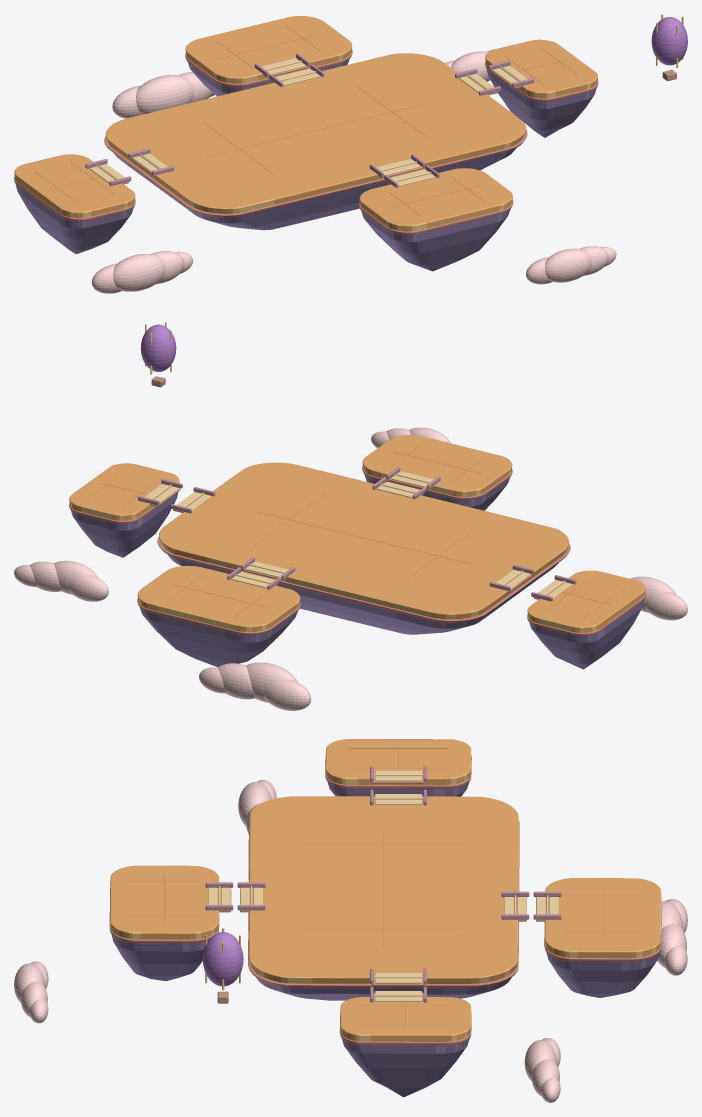
Rendered from open_ringout_art_v3.glb.
3 renders of one model, top to bottom at view 1: azimuth 30°, elevation 25°; view 2: azimuth 150°, elevation 25°; view 3: azimuth 270°, elevation 25°, orthographic. The views are drawn at different scales.
Visible parts, largest first — view 1: P32_MainIsland_DeckShell, P32_OuterIsland_South_DeckShell, P32_OuterIsland_North_DeckShell, P32_OuterIsland_West_DeckShell, P32_OuterIsland_East_DeckShell, P32_OuterIsland_North_ContinuousUnderside, P32_MainIsland_ContinuousUnderside, P32_CloudLayer_West, P32_CloudLayer_South, P32_OuterIsland_West_ContinuousUnderside, P32_OuterIsland_East_ContinuousUnderside, P32_CloudLayer_North (+15 smaller); view 2: P32_MainIsland_DeckShell, P32_OuterIsland_South_DeckShell, P32_OuterIsland_North_DeckShell, P32_OuterIsland_West_DeckShell, P32_OuterIsland_East_DeckShell, P32_OuterIsland_South_ContinuousUnderside, P32_CloudLayer_South, P32_MainIsland_ContinuousUnderside, P32_OuterIsland_West_ContinuousUnderside, P32_CloudLayer_East, P32_OuterIsland_East_ContinuousUnderside, P32_MainIsland_WarmBand (+5 smaller); view 3: P32_MainIsland_DeckShell, P32_OuterIsland_South_DeckShell, P32_OuterIsland_North_DeckShell, P32_OuterIsland_West_DeckShell, P32_OuterIsland_East_DeckShell, P32_OuterIsland_East_ContinuousUnderside, P32_OuterIsland_South_ContinuousUnderside, P32_OuterIsland_North_ContinuousUnderside, P32_MainIsland_ContinuousUnderside, P32_CloudLayer_South, P32_CloudLayer_East, P32_HotAirBalloon_Envelope (+15 smaller).
Boxes of the visible parts, x1,y1,x2,y2 form: P32_MainIsland_DeckShell: (105,53,525,213); P32_OuterIsland_South_DeckShell: (185,16,352,83); P32_OuterIsland_North_DeckShell: (359,168,512,231); P32_OuterIsland_West_DeckShell: (14,154,135,218); P32_OuterIsland_East_DeckShell: (485,39,597,98); P32_OuterIsland_North_ContinuousUnderside: (361,209,510,271); P32_MainIsland_ContinuousUnderside: (114,148,516,230); P32_CloudLayer_West: (91,251,193,293); P32_CloudLayer_South: (112,72,214,118); P32_OuterIsland_West_ContinuousUnderside: (15,184,133,254); P32_OuterIsland_East_ContinuousUnderside: (486,68,596,137); P32_CloudLayer_North: (526,246,616,284); P32_MainIsland_DeckShell: (159,462,568,619); P32_OuterIsland_South_DeckShell: (137,565,300,632); P32_OuterIsland_North_DeckShell: (362,435,512,496); P32_OuterIsland_West_DeckShell: (527,570,645,632); P32_OuterIsland_East_DeckShell: (69,463,179,520); P32_OuterIsland_South_ContinuousUnderside: (140,608,297,667); P32_CloudLayer_South: (199,662,311,710); P32_MainIsland_ContinuousUnderside: (167,554,558,634); P32_OuterIsland_West_ContinuousUnderside: (529,599,644,669); P32_CloudLayer_East: (14,560,108,601); P32_OuterIsland_East_ContinuousUnderside: (71,492,178,557); P32_MainIsland_WarmBand: (157,537,570,622); P32_MainIsland_DeckShell: (249,796,518,983); P32_OuterIsland_South_DeckShell: (544,878,661,958); P32_OuterIsland_North_DeckShell: (110,865,219,939); P32_OuterIsland_West_DeckShell: (325,739,471,785); P32_OuterIsland_East_DeckShell: (340,997,471,1041); P32_OuterIsland_East_ContinuousUnderside: (342,1039,469,1097); P32_OuterIsland_South_ContinuousUnderside: (546,952,659,997); P32_OuterIsland_North_ContinuousUnderside: (111,935,207,981); P32_MainIsland_ContinuousUnderside: (256,977,511,1000); P32_CloudLayer_South: (657,899,687,975); P32_CloudLayer_East: (524,1038,560,1102); P32_HotAirBalloon_Envelope: (202,932,243,986).
Size of the model in its own units: 102 by 29.85 by 92.24.
